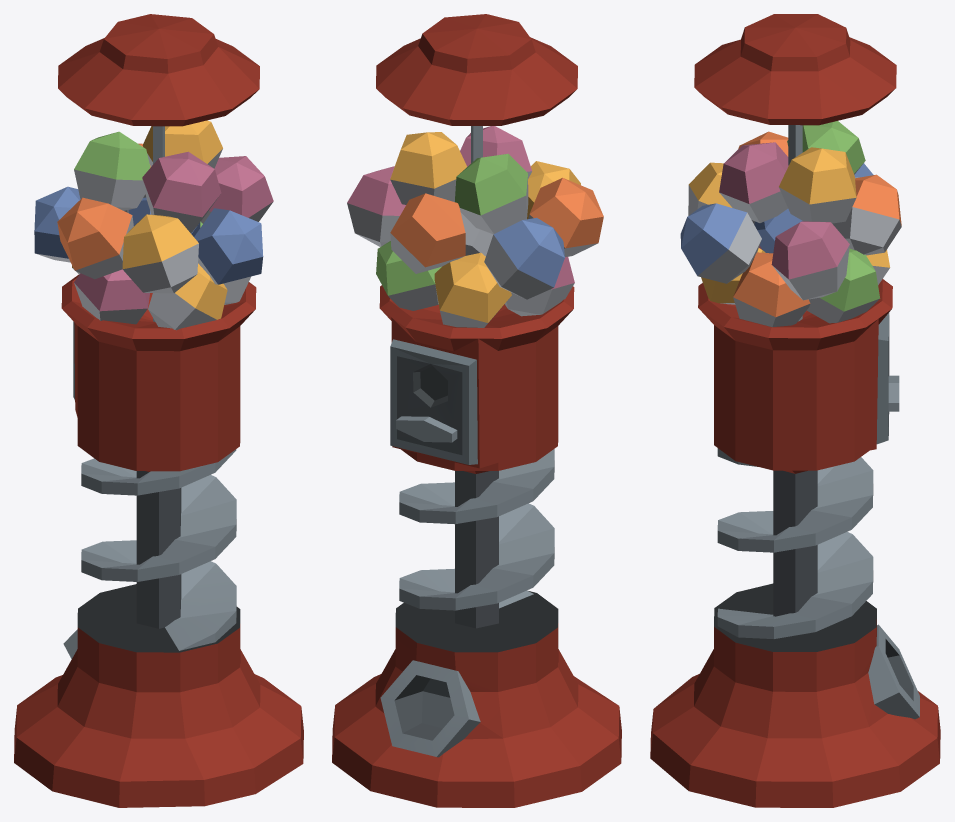
Rendered from SM_Prop_Gumball_Machine_01.obj.
The picture shows the model from 3 angles, left to right: view 1: azimuth 30°, elevation 25°; view 2: azimuth 150°, elevation 25°; view 3: azimuth 270°, elevation 25°; orthographic projection.
Visible parts, largest first — view 1: SM_Prop_Gumball_Machine_01_0; view 2: SM_Prop_Gumball_Machine_01_0; view 3: SM_Prop_Gumball_Machine_01_0.
Boxes of the visible parts, x1=… form: SM_Prop_Gumball_Machine_01_0: x1=14, y1=14, x2=303, y2=807; SM_Prop_Gumball_Machine_01_0: x1=332, y1=14, x2=621, y2=807; SM_Prop_Gumball_Machine_01_0: x1=650, y1=14, x2=940, y2=807.
Bounding box in the file's own units: 0.3818 × 1.04 × 0.3818.
1 material, 1 textured.
